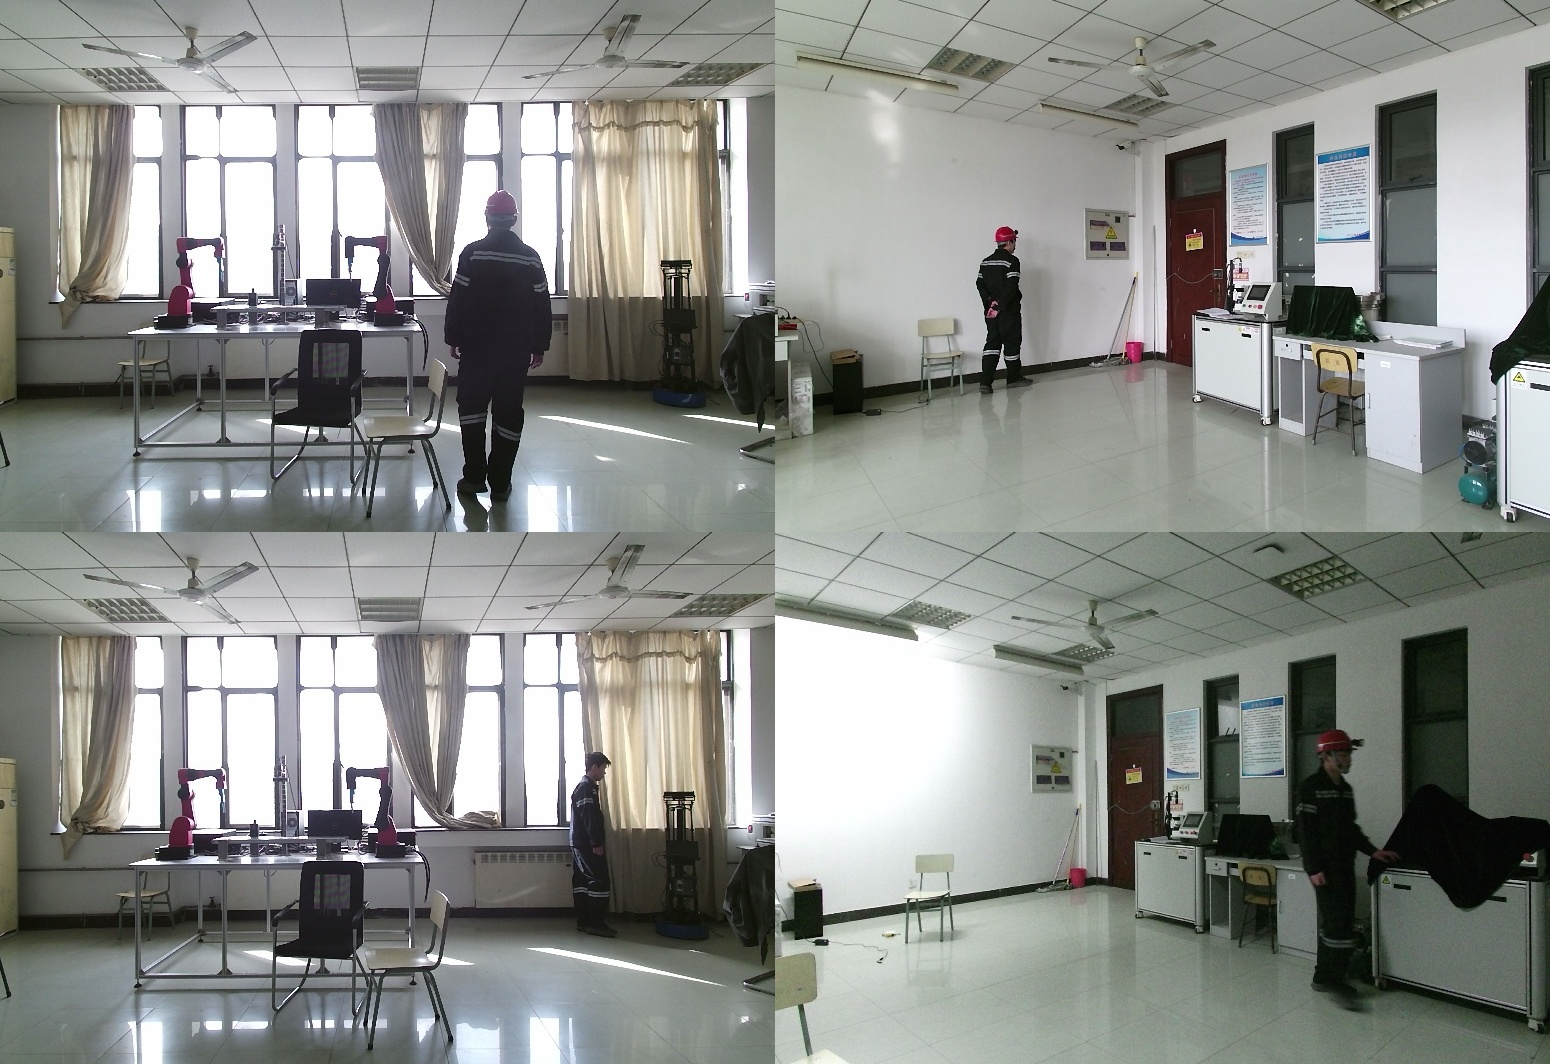person: (448, 190, 556, 532), (1288, 728, 1400, 997), (571, 753, 636, 942), (975, 226, 1029, 394)
